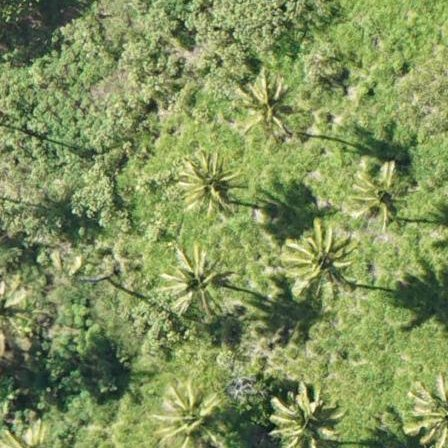palm_tree: (263, 377, 343, 448), (284, 215, 356, 292), (158, 241, 228, 316), (172, 142, 242, 216), (151, 377, 219, 448), (233, 69, 298, 138), (346, 155, 408, 221)
